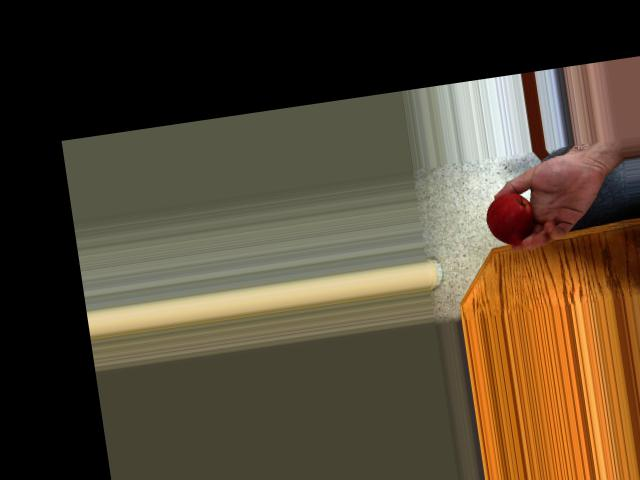apple: (481, 187, 538, 249)
